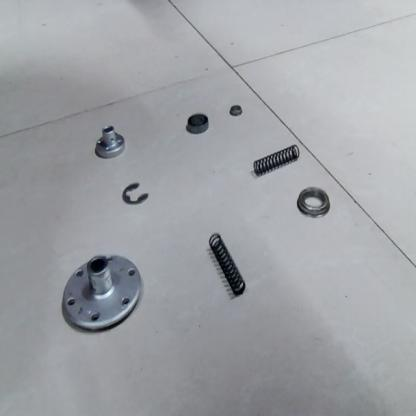FOD: (59, 251, 144, 336), (207, 228, 250, 301), (250, 142, 302, 182), (89, 124, 126, 162), (295, 185, 332, 220), (120, 179, 148, 210), (185, 111, 210, 137), (228, 101, 245, 119)
